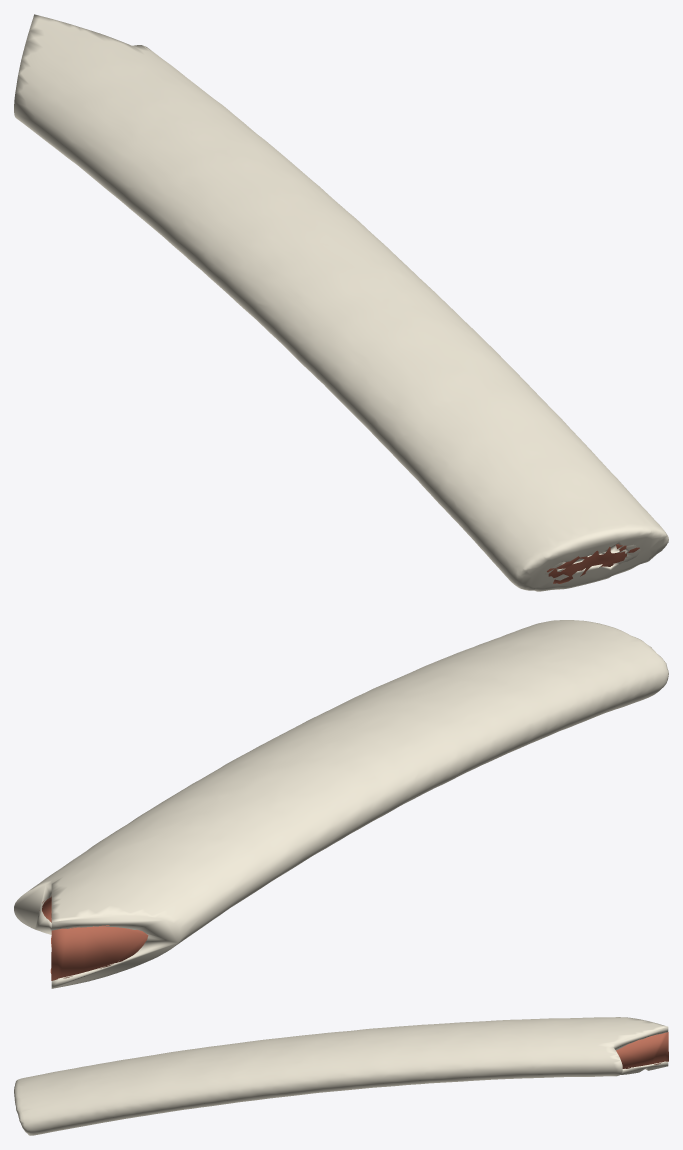
Rendered from rib.glb.
3 views of the same model, one above another, from view 1: azimuth 30°, elevation 25°; view 2: azimuth 150°, elevation 25°; view 3: azimuth 270°, elevation 25° (orthographic). The views are drawn at different scales.
Parts seen in each view (by area): view 1: Rib, Marrow; view 2: Rib, Marrow; view 3: Rib, Marrow.
Part boxes in pixels (bbox=[...]): Rib: bbox=[14, 14, 668, 591]; Marrow: bbox=[547, 544, 639, 583]; Rib: bbox=[14, 620, 668, 988]; Marrow: bbox=[39, 896, 148, 980]; Rib: bbox=[14, 1017, 668, 1135]; Marrow: bbox=[616, 1032, 668, 1068].
Bounding box in the file's own units: 0.0131 × 0.0137 × 0.0827.
